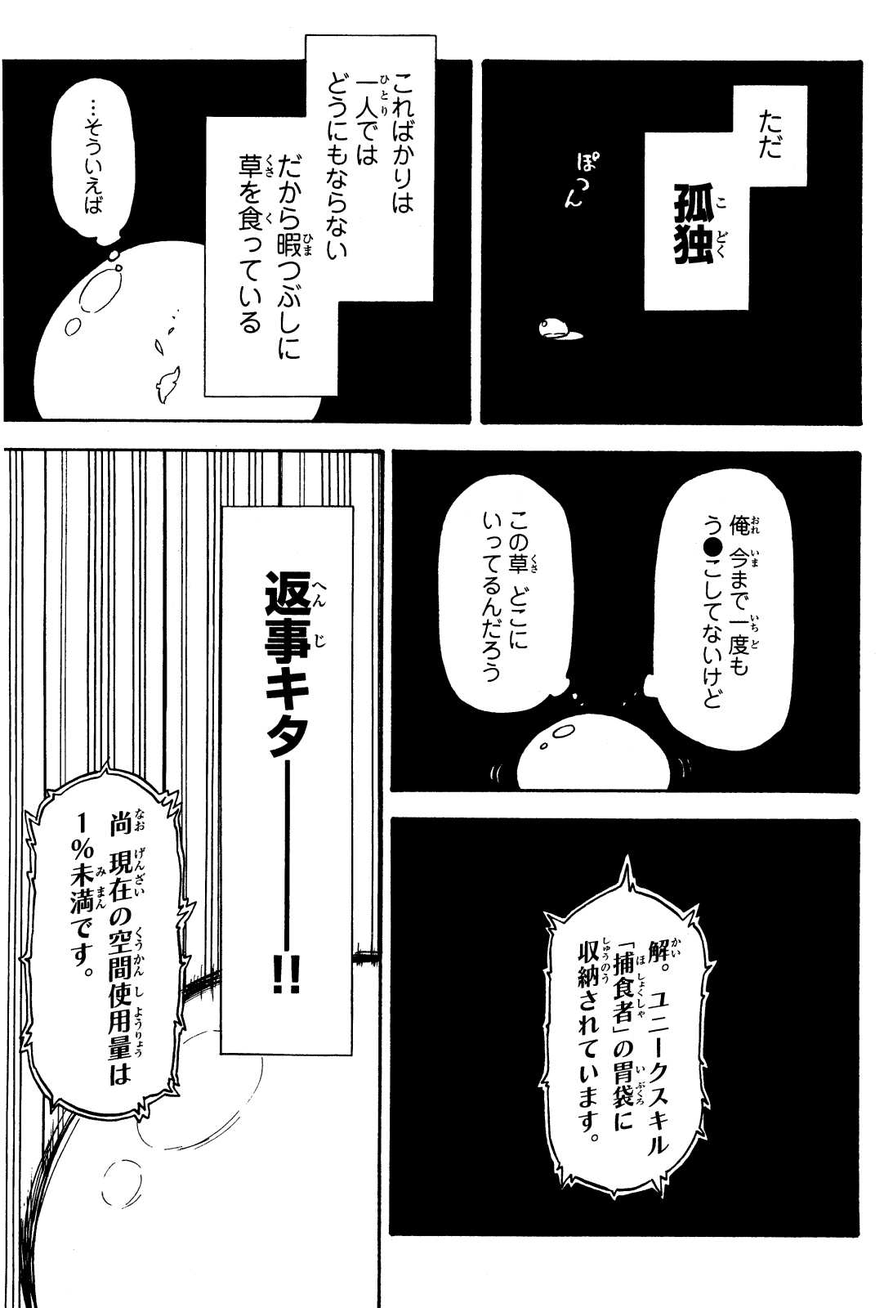bubbles: (199, 33, 445, 398), (217, 494, 359, 1063), (530, 851, 719, 1214), (21, 750, 201, 1131), (639, 465, 813, 757), (627, 78, 815, 316), (431, 468, 587, 718), (41, 75, 149, 265)
